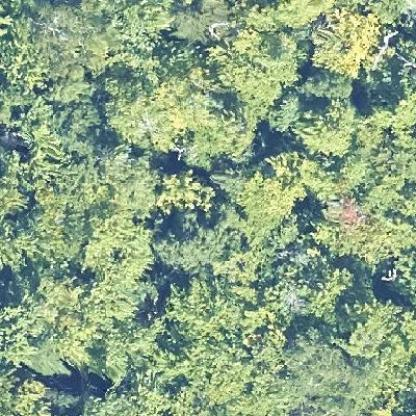tree-top: (76, 213, 164, 284), (103, 81, 189, 153), (228, 155, 314, 221), (166, 273, 247, 341), (304, 7, 382, 76), (153, 214, 230, 270), (148, 166, 220, 218), (338, 290, 393, 358), (384, 93, 415, 183)
